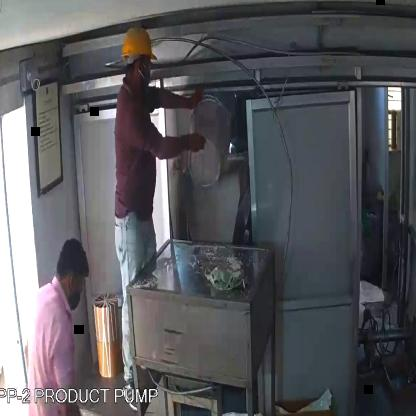helmet: (117, 20, 155, 68)
